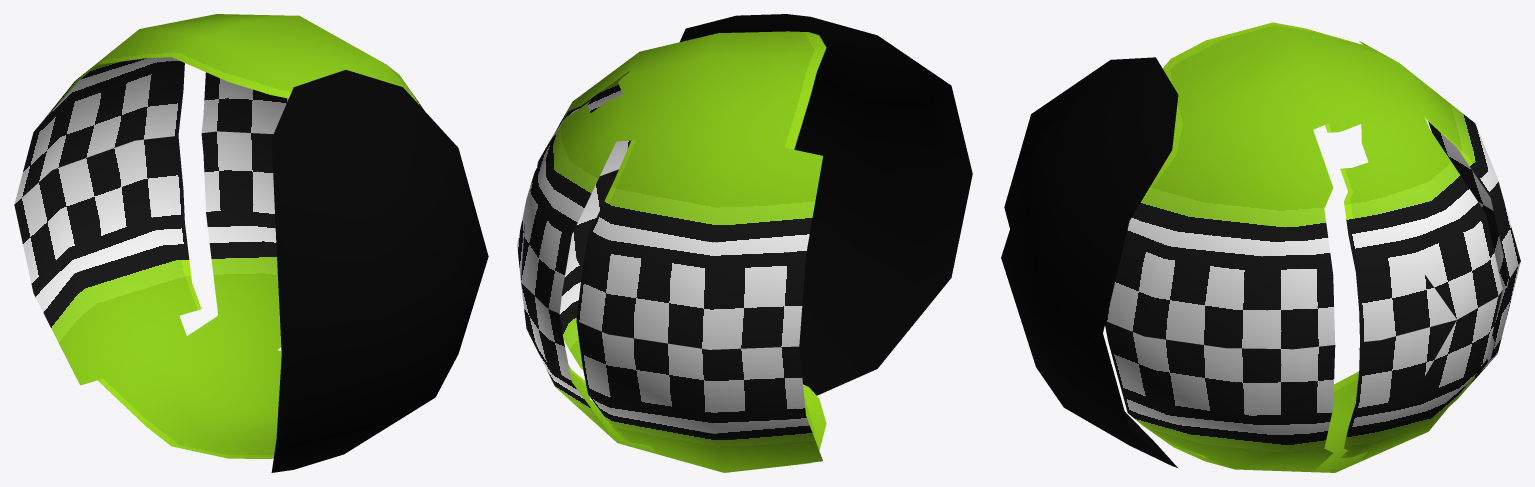
The model's file is hlmt_helmet_retro.dae.
3 views of the same model, side by side, from view 1: azimuth 30°, elevation 25°; view 2: azimuth 150°, elevation 25°; view 3: azimuth 270°, elevation 25° (orthographic).
Parts seen in each view (by area): view 1: hlmt_helmet_retro; view 2: hlmt_helmet_retro; view 3: hlmt_helmet_retro.
Boxes of the visible parts, left/top/right/bottom form: hlmt_helmet_retro: left=14, top=14, right=488, bottom=472; hlmt_helmet_retro: left=517, top=14, right=972, bottom=472; hlmt_helmet_retro: left=1001, top=22, right=1520, bottom=472.
Size of the model in its own units: 21.67 by 24.89 by 28.89.
2 materials, 2 textured.
